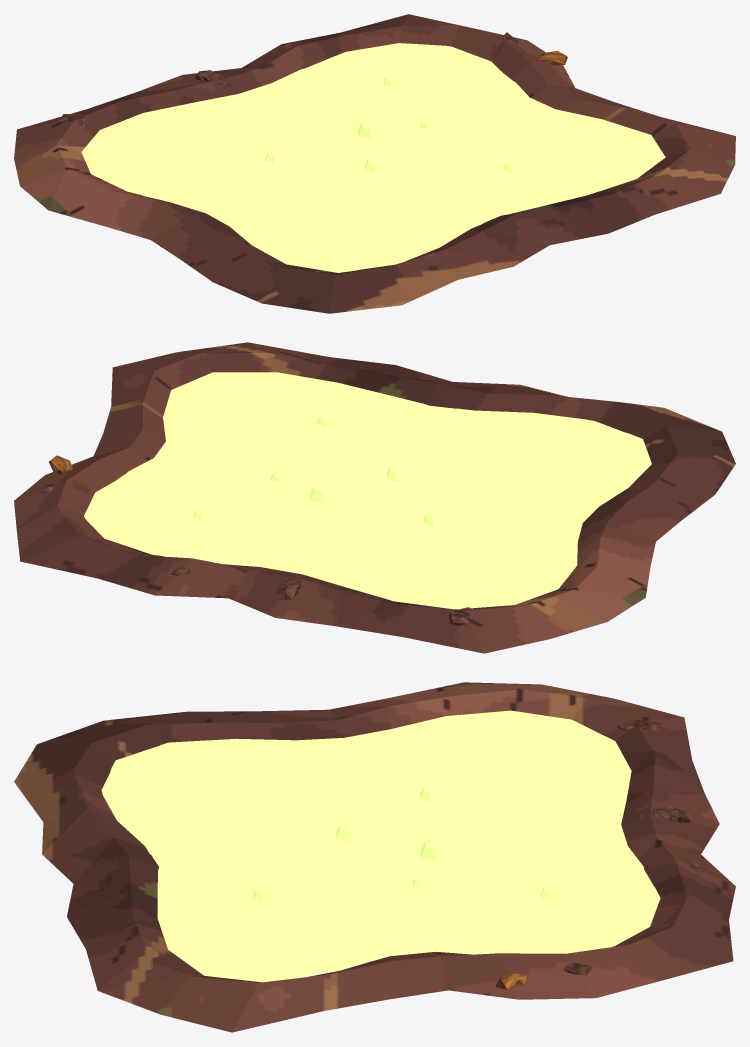
File: SM_AN44_AcidPuddle_C.fbx
The picture shows the model from 3 angles, top to bottom: view 1: azimuth 30°, elevation 25°; view 2: azimuth 150°, elevation 25°; view 3: azimuth 270°, elevation 25°; orthographic projection. The views are drawn at different scales.
Parts seen in each view (by area): view 1: AN44c_Acid, AN44c_Earth, AN44c_Props; view 2: AN44c_Acid, AN44c_Earth, AN44c_Props; view 3: AN44c_Acid, AN44c_Earth, AN44c_Props.
Boxes of the visible parts, <box> form: AN44c_Acid: <box>81,43,665,272</box>; AN44c_Earth: <box>14,14,735,313</box>; AN44c_Props: <box>58,32,567,128</box>; AN44c_Acid: <box>84,372,651,609</box>; AN44c_Earth: <box>14,342,735,653</box>; AN44c_Props: <box>38,455,473,625</box>; AN44c_Acid: <box>101,710,660,982</box>; AN44c_Earth: <box>14,682,735,1032</box>; AN44c_Props: <box>495,720,704,989</box>.
Bounding box in the file's own units: 1.95 × 0.0708 × 1.7.
